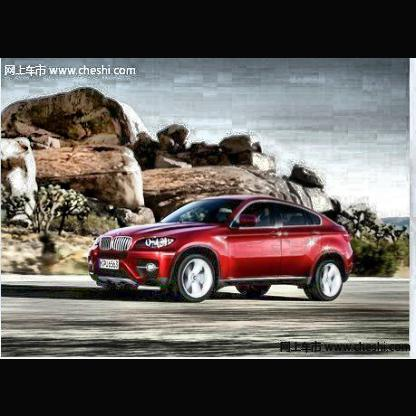BMW X6 SUV 2012: (89, 197, 356, 303)
